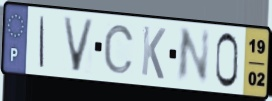0: (214, 30, 240, 90)
C: (102, 23, 136, 76)
I: (38, 14, 47, 70)
K: (140, 23, 168, 82)
N: (174, 26, 212, 86)
V: (61, 15, 97, 75)
